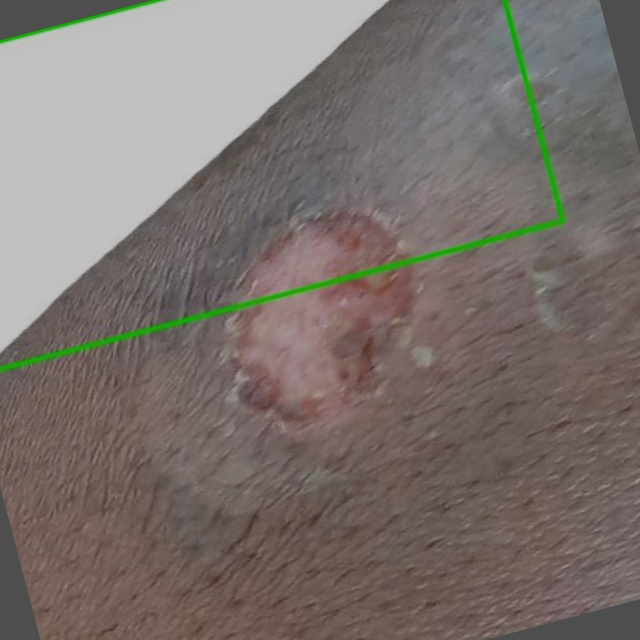Contact Dermatitis: (0, 0, 563, 368)
